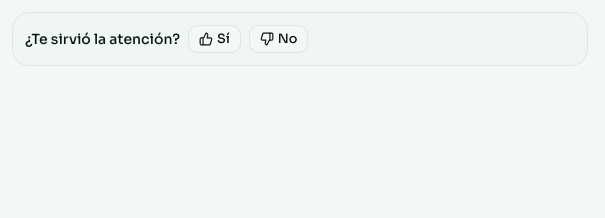
Test: valoración al terminar el caso › envía útil + comentario una vez
The width and height of the screenshot is (605, 218).
Click the button "Sí" at (214, 39), box [188,25,241,53]
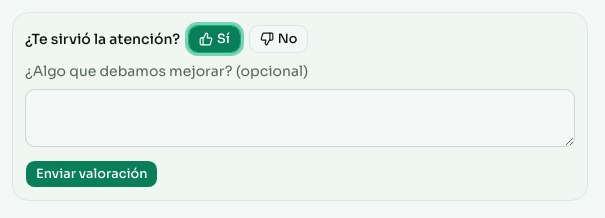
Type "rápido" into the text box labelled "¿Algo que debamos mejorar? (opcional)" at (300, 118), box [25,89,575,147]
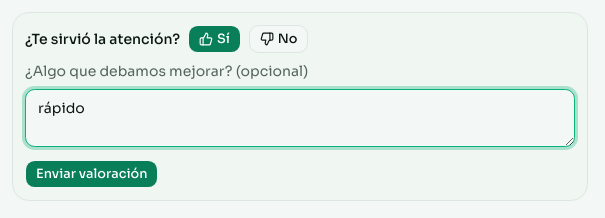
Click the button "Enviar valoración" at (92, 174), box [25,160,158,188]
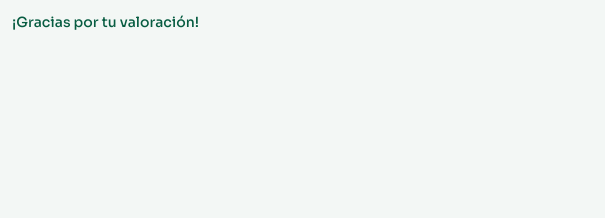
expect the text "¡Gracias por tu valoración!" is shown: met, box [12,13,199,31]
